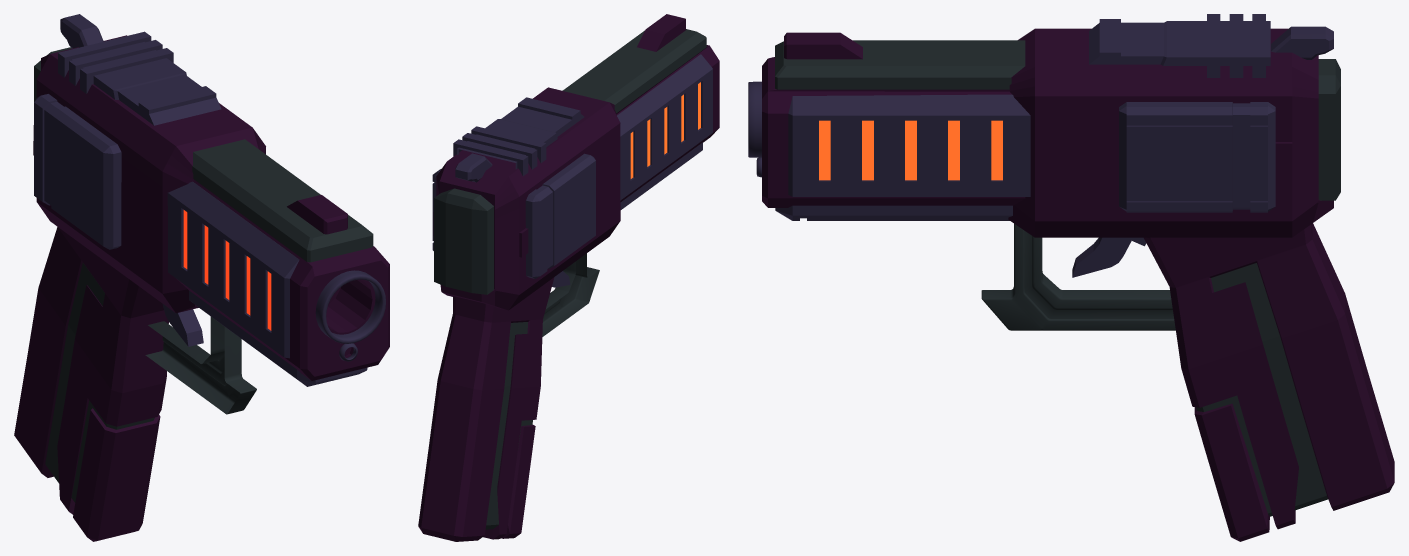
The model's file is marianoalva-gun-4992--1-.glb.
3 renders of one model, left to right at view 1: azimuth 30°, elevation 25°; view 2: azimuth 150°, elevation 25°; view 3: azimuth 270°, elevation 25°, orthographic. The views are drawn at different scales.
Parts seen in each view (by area): view 1: MANGO BASE, SOPORTE SUPERIOR, CUERPO DE CARGADOR, CUERPO DE DISPARADOR, LATERALES, SUPERFICIE, SOPÓRTE DE GATILLO, Entrada, SUPERFICIE 2, Cube; view 2: MANGO BASE, CUERPO DE CARGADOR, CUERPO DE DISPARADOR, SOPORTE SUPERIOR, LATERALES, OCCIPITAL, SUPERFICIE, SOPÓRTE DE GATILLO, SUPERFICIE 2; view 3: MANGO BASE, CUERPO DE CARGADOR, CUERPO DE DISPARADOR, SOPORTE SUPERIOR, LATERALES, SOPÓRTE DE GATILLO, SUPERFICIE, OCCIPITAL, SUPERFICIE 2, Cube, Entrada.
Part boxes in pixels (x1,y1,x2,y2): MANGO BASE: (14,227,168,541); SOPORTE SUPERIOR: (177,139,389,380); CUERPO DE CARGADOR: (33,35,265,313); CUERPO DE DISPARADOR: (167,181,367,386); LATERALES: (34,94,121,249); SUPERFICIE: (58,31,221,125); SOPÓRTE DE GATILLO: (145,316,256,414); Entrada: (315,270,385,361); SUPERFICIE 2: (60,14,103,48); Cube: (162,304,203,346); MANGO BASE: (418,277,554,541); CUERPO DE CARGADOR: (433,87,620,310); CUERPO DE DISPARADOR: (617,54,712,209); SOPORTE SUPERIOR: (562,14,719,202); LATERALES: (432,153,595,278); OCCIPITAL: (434,188,493,294); SUPERFICIE: (453,97,584,176); SOPÓRTE DE GATILLO: (542,253,599,336); SUPERFICIE 2: (455,153,492,182); MANGO BASE: (1144,223,1394,541); CUERPO DE CARGADOR: (1008,28,1333,237); CUERPO DE DISPARADOR: (775,94,1030,220); SOPORTE SUPERIOR: (762,32,1025,207); LATERALES: (1119,102,1275,212); SOPÓRTE DE GATILLO: (981,223,1175,330); SUPERFICIE: (1089,14,1270,77); OCCIPITAL: (1318,59,1340,200); SUPERFICIE 2: (1271,26,1333,59); Cube: (1072,237,1146,277); Entrada: (748,81,761,177).
Size of the model in its own units: 1.39 by 4.83 by 5.65.
